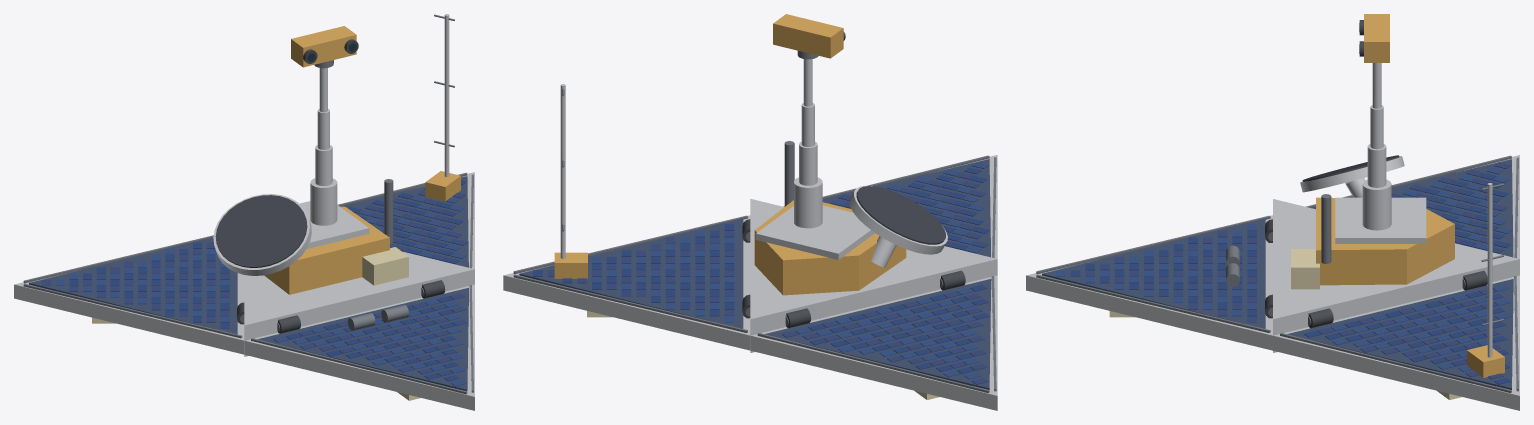
File: pathfinder.glb
3 views of the same model, side by side, from view 1: azimuth 30°, elevation 25°; view 2: azimuth 150°, elevation 25°; view 3: azimuth 270°, elevation 25° (orthographic). The views are drawn at different scales.
Parts seen in each view (by area): view 1: Mars Pathfinder | estación desplegada; view 2: Mars Pathfinder | estación desplegada; view 3: Mars Pathfinder | estación desplegada.
Part boxes in pixels (box(x1,y1,x2,y2)): Mars Pathfinder | estación desplegada: box(14, 14, 474, 410); Mars Pathfinder | estación desplegada: box(503, 14, 997, 410); Mars Pathfinder | estación desplegada: box(1026, 14, 1519, 410).
Bounding box in the file's own units: 2.75 × 1.5 × 2.38.
